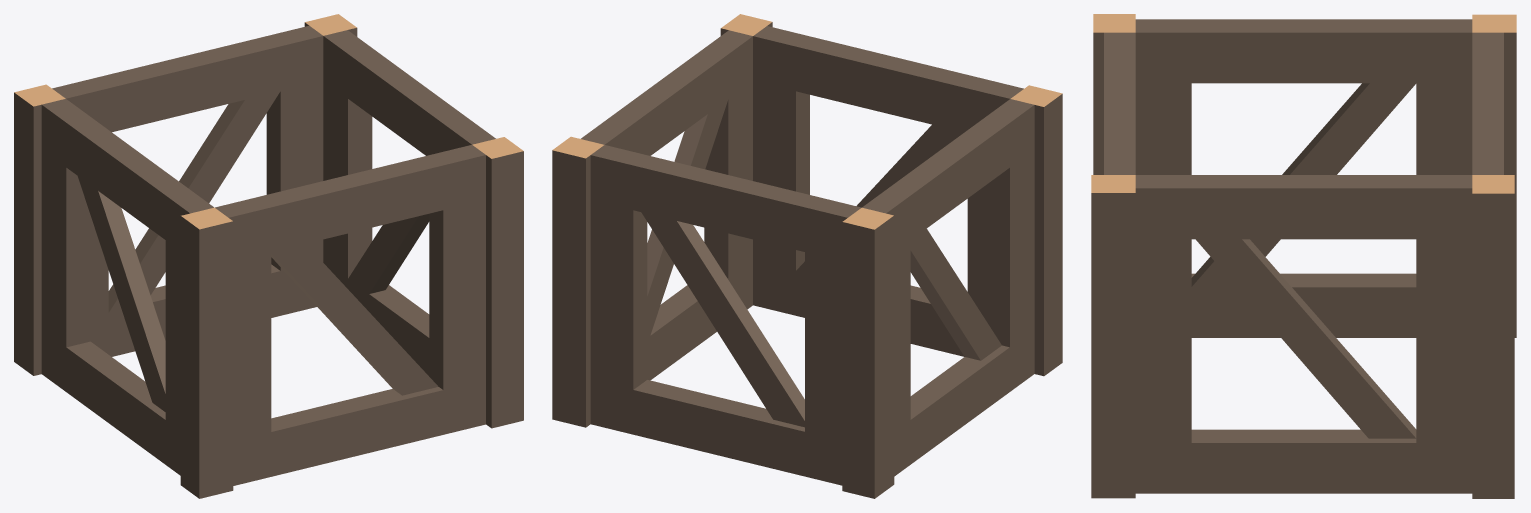
File: SM_Crate_OpenSides.fbx
The picture shows the model from 3 angles, left to right: view 1: azimuth 30°, elevation 25°; view 2: azimuth 150°, elevation 25°; view 3: azimuth 270°, elevation 25°; orthographic projection. The views are drawn at different scales.
Parts seen in each view (by area): view 1: SM_Crate_OpenSides; view 2: SM_Crate_OpenSides; view 3: SM_Crate_OpenSides.
Boxes of the visible parts, left/top/right/bottom form: SM_Crate_OpenSides: left=14, top=14, right=523, bottom=498; SM_Crate_OpenSides: left=552, top=14, right=1062, bottom=498; SM_Crate_OpenSides: left=1091, top=14, right=1516, bottom=498.
Size of the model in its own units: 93.07 by 73.72 by 93.07.
